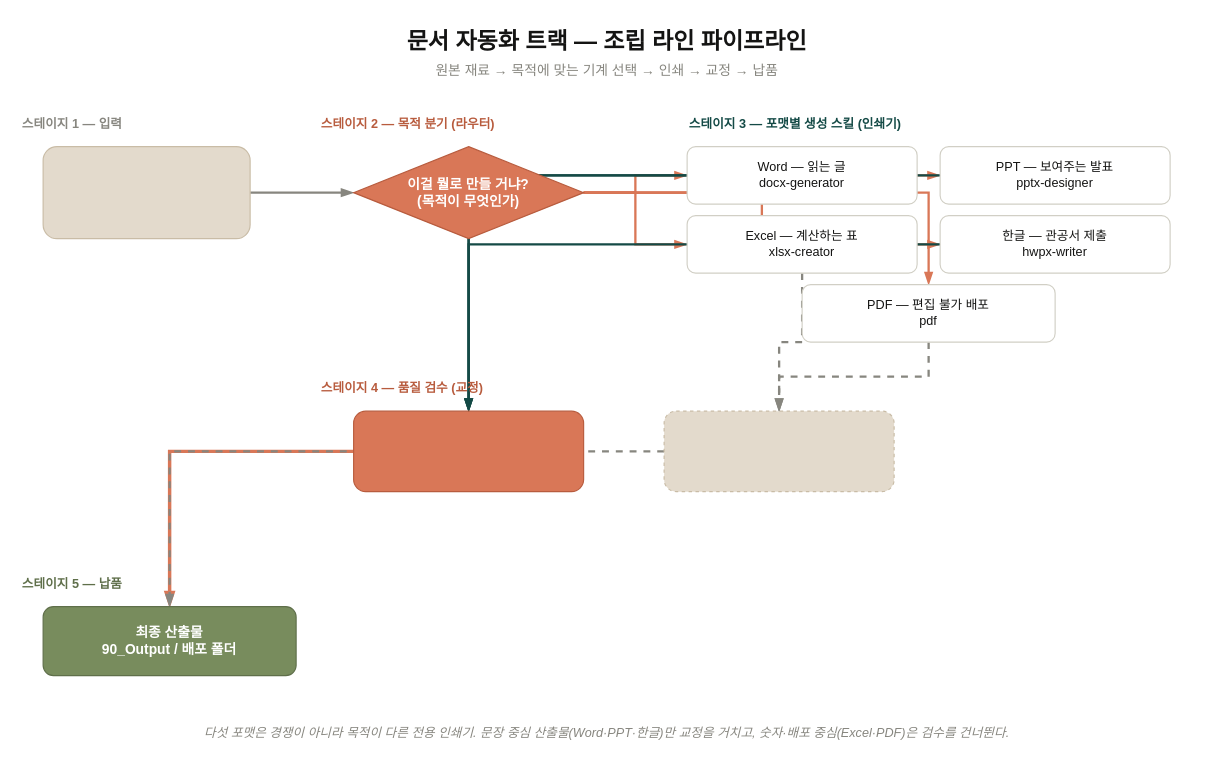
This 1212x775 diagram has some shape labels left out. The centre of each missing label's shape, as x and y in pixels:
"ai-slop-reviewer 어투 · 표현 다듬기 (텍스트 산출물만)" belongs at (x=468, y=451).
"Excel · PDF 어투 없음 → 검수 생략" belongs at (x=778, y=451).
"원본 재료 데이터 · 원고 · 템플릿 (D:/Input, Drive)" belongs at (x=146, y=192).
